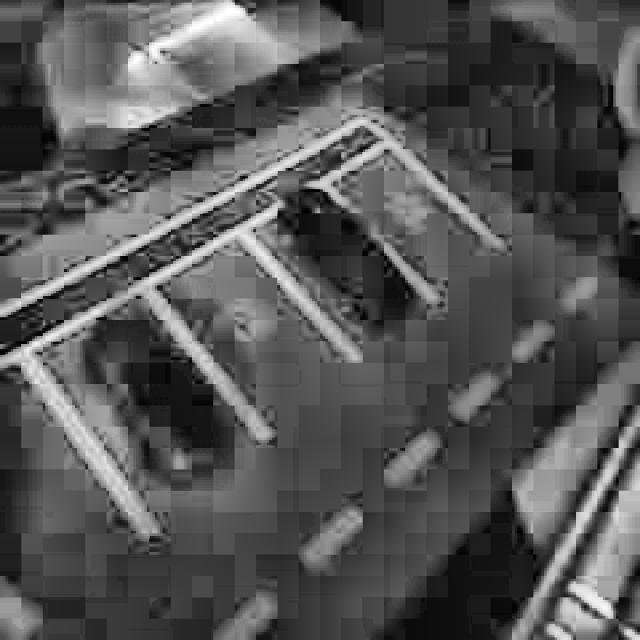car: (74, 304, 246, 491), (268, 177, 416, 346)
